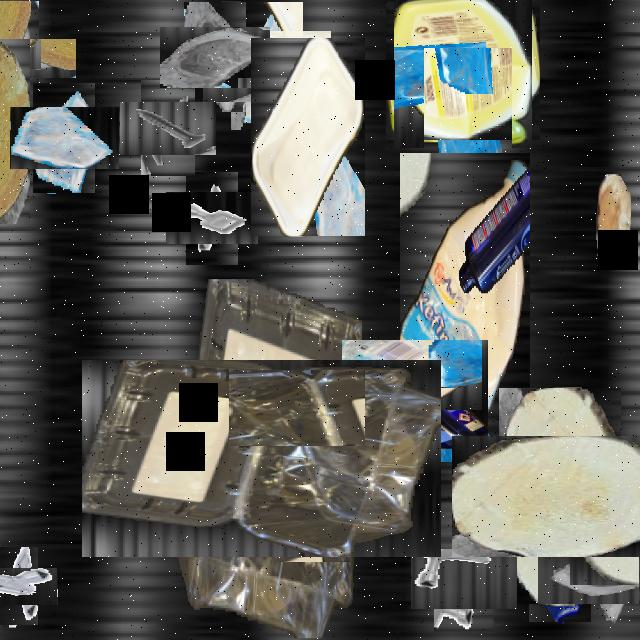glass: (424, 48, 512, 204), (260, 441, 366, 547), (217, 16, 317, 116), (553, 517, 640, 620), (21, 96, 107, 182), (172, 14, 258, 100), (529, 512, 591, 622), (0, 20, 57, 96)
metal: (422, 538, 506, 621), (130, 90, 206, 166), (176, 182, 248, 255), (0, 557, 48, 615)
plastic: (123, 319, 401, 598), (400, 153, 530, 462), (251, 38, 365, 236), (390, 0, 536, 144), (351, 331, 479, 458)
wood: (475, 411, 640, 580), (0, 39, 30, 224), (596, 174, 630, 267)
